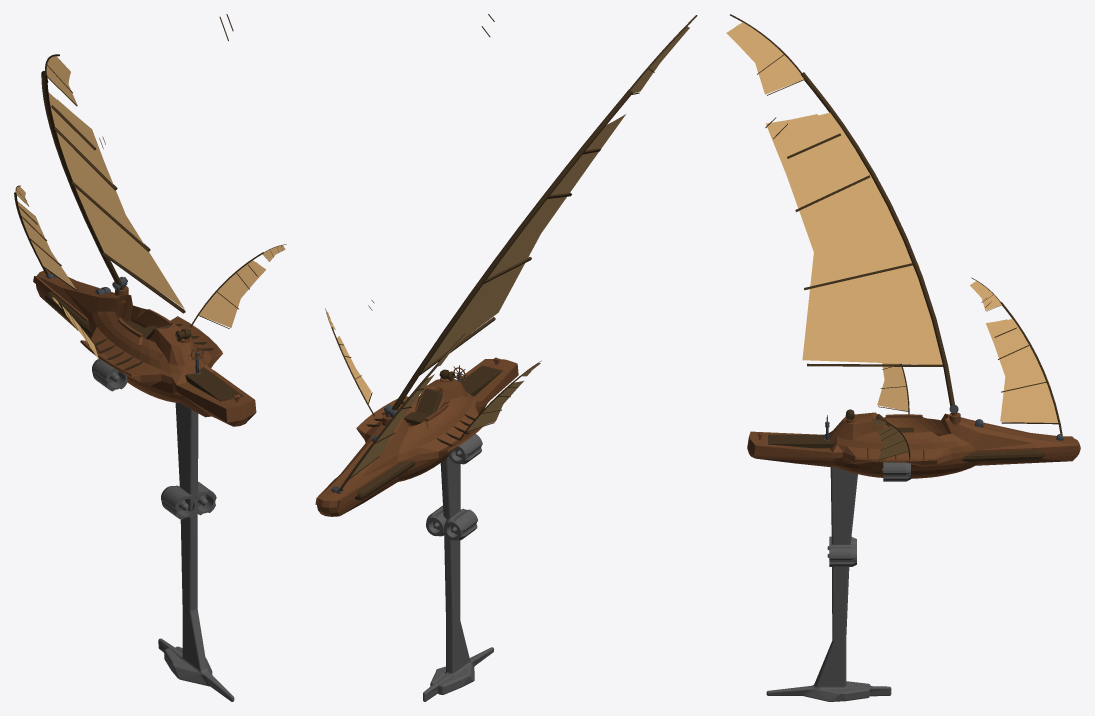
Rendered from dune_foil_rig.fbx.
3 renders of one model, left to right at view 1: azimuth 30°, elevation 25°; view 2: azimuth 150°, elevation 25°; view 3: azimuth 270°, elevation 25°, orthographic. The views are drawn at different scales.
Visible parts, largest first — view 1: Hull_Shell, Main_Cloth_00, Foil_Blade, WingS_Cloth_00, Main_Post, Jib_Cloth_00, Deck_Fitting_00, Foil_Fairing_01, Deck_Fitting_11, Main_Cloth_01, Foil_Fairing_02, Deck_Fitting_08; view 2: Hull_Shell, Main_Cloth_00, Foil_Blade, Main_Post, Jib_Cloth_00, Foil_Fairing_01, Station_MastRake, Deck_Fitting_08, Deck_Fitting_00, WingP_Cloth_00, Deck_Fitting_11; view 3: Main_Cloth_00, Hull_Shell, Foil_Blade, Jib_Cloth_00, Main_Cloth_01, Main_Post, WingP_Cloth_00, Deck_Fitting_00, Deck_Fitting_08, WingS_Cloth_00, Foil_Fairing_02, Deck_Fitting_12.
Part boxes in pixels (<box>): Hull_Shell: <box>33,270,256,426</box>; Main_Cloth_00: <box>48,92,184,308</box>; Foil_Blade: <box>158,402,234,701</box>; WingS_Cloth_00: <box>199,260,266,327</box>; Main_Post: <box>41,71,123,289</box>; Jib_Cloth_00: <box>17,201,76,289</box>; Deck_Fitting_00: <box>185,367,243,401</box>; Foil_Fairing_01: <box>161,485,196,519</box>; Deck_Fitting_11: <box>92,358,127,391</box>; Main_Cloth_01: <box>46,56,77,105</box>; Foil_Fairing_02: <box>193,481,216,515</box>; Deck_Fitting_08: <box>45,291,91,337</box>; Hull_Shell: <box>315,359,518,516</box>; Main_Cloth_00: <box>424,114,625,368</box>; Foil_Blade: <box>423,456,493,701</box>; Main_Post: <box>390,89,632,417</box>; Jib_Cloth_00: <box>350,374,434,477</box>; Foil_Fairing_01: <box>443,508,477,540</box>; Station_MastRake: <box>403,388,442,424</box>; Deck_Fitting_08: <box>355,460,415,500</box>; Deck_Fitting_00: <box>461,365,502,396</box>; WingP_Cloth_00: <box>467,380,523,431</box>; Deck_Fitting_11: <box>448,434,482,464</box>; Main_Cloth_00: <box>766,112,942,364</box>; Hull_Shell: <box>747,412,1080,478</box>; Foil_Blade: <box>766,467,891,701</box>; Jib_Cloth_00: <box>985,319,1058,422</box>; Main_Cloth_01: <box>726,22,803,94</box>; Main_Post: <box>801,72,954,414</box>; WingP_Cloth_00: <box>877,363,908,411</box>; Deck_Fitting_00: <box>768,434,834,448</box>; Deck_Fitting_08: <box>961,450,1044,461</box>; WingS_Cloth_00: <box>877,426,908,459</box>; Foil_Fairing_02: <box>827,544,856,566</box>; Deck_Fitting_12: <box>882,462,910,481</box>.
Size of the model in its own units: 16.68 by 36.27 by 19.41.
